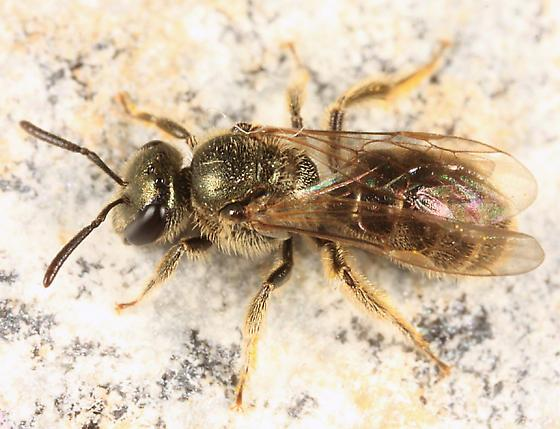Lasioglossum: (17, 52, 549, 398)
